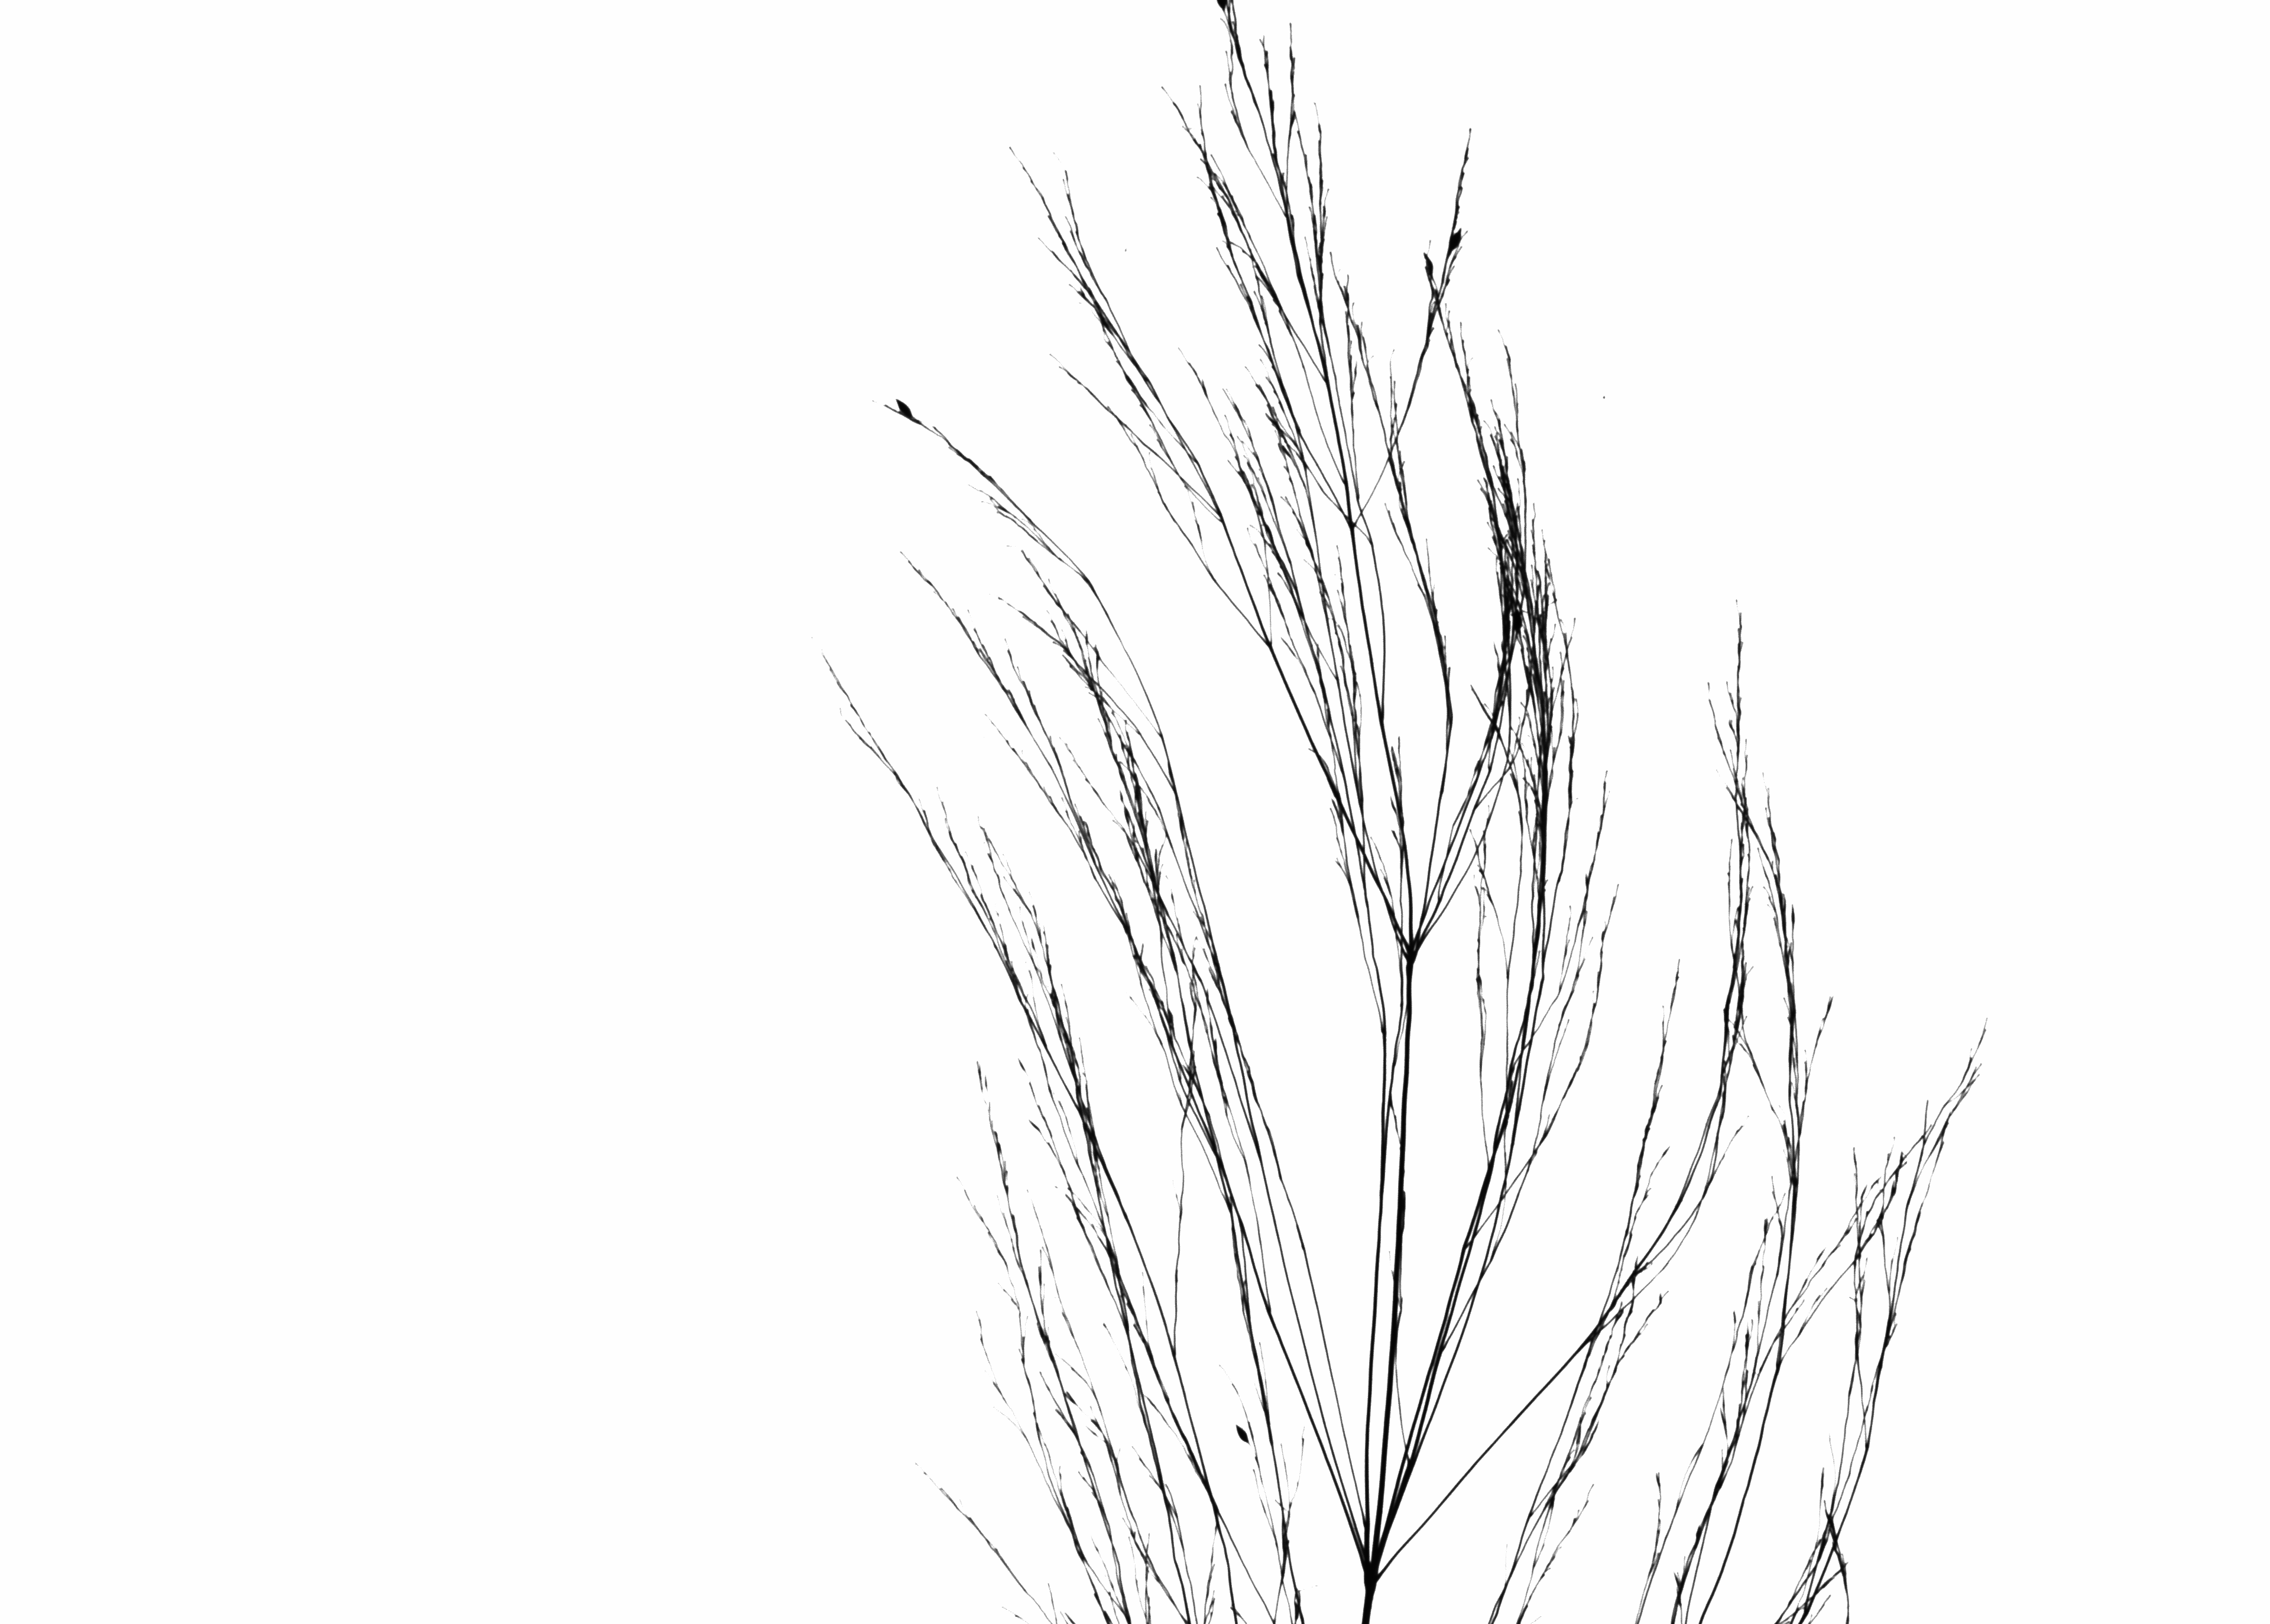seed: (1417, 246, 1440, 283), (891, 392, 916, 424), (1227, 1420, 1255, 1446), (1447, 223, 1466, 257)
